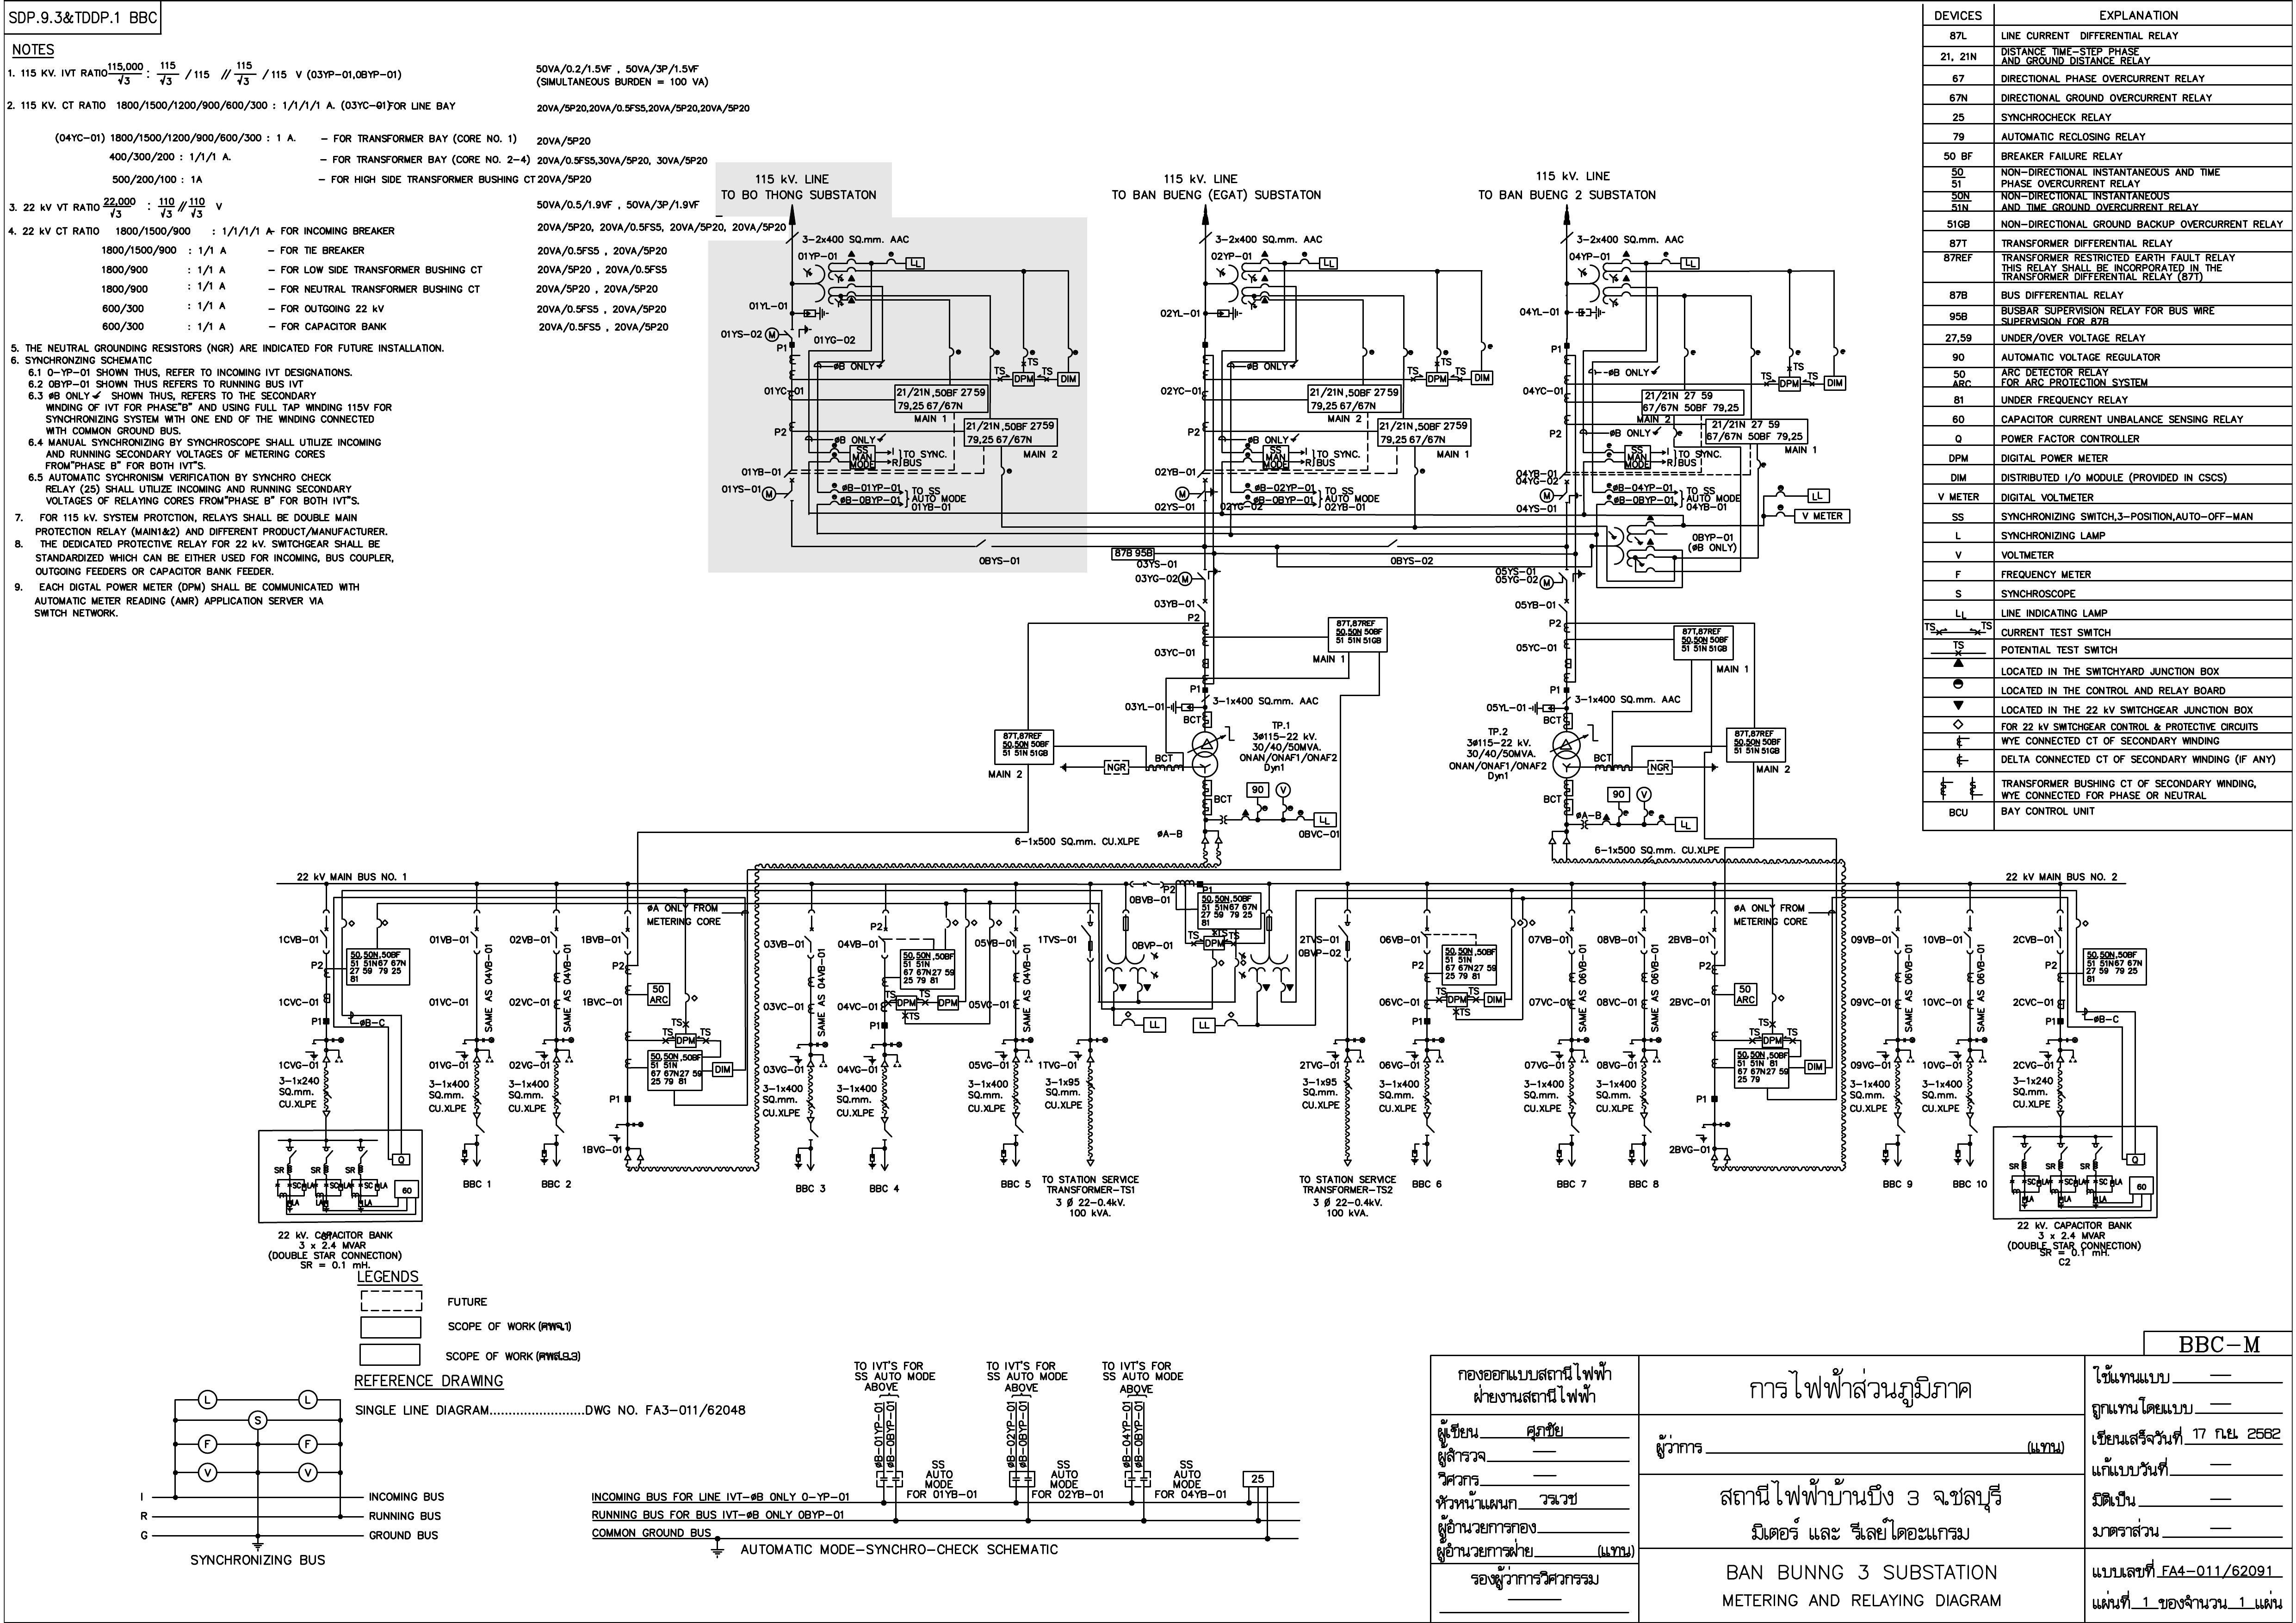11522_tx_dyn1: (1552, 730, 1581, 779), (1191, 731, 1219, 778)
115_1way_ds_w_motor: (761, 486, 794, 502)
115_3ways_ds_w_motor: (1539, 569, 1586, 591), (764, 324, 812, 342), (1177, 567, 1221, 586), (1539, 488, 1583, 504), (1175, 486, 1219, 502)
115_breaker: (783, 469, 795, 483), (1197, 469, 1208, 483), (1559, 471, 1570, 485), (1197, 599, 1208, 612), (1562, 599, 1573, 613)
115_ds: (975, 539, 993, 548), (1387, 539, 1399, 548)
115_la: (1167, 700, 1194, 715), (1528, 701, 1555, 716), (803, 306, 829, 321), (1217, 306, 1243, 321)
115_vt_1p: (1608, 515, 1656, 568)
115_vt_3p: (1215, 250, 1270, 311), (1577, 250, 1632, 308), (803, 250, 857, 308)
22_breaker: (804, 909, 816, 959), (878, 909, 890, 959), (1707, 909, 1718, 956), (1009, 909, 1020, 955), (1891, 908, 1902, 955), (550, 909, 561, 955), (1963, 908, 1974, 955), (1637, 909, 1648, 955), (1420, 909, 1431, 955), (470, 909, 481, 955), (320, 908, 330, 955), (1565, 909, 1576, 955), (2054, 909, 2064, 955), (621, 910, 631, 956), (1130, 881, 1164, 889)
22_cap_bank: (1992, 1125, 2158, 1220), (257, 1129, 423, 1224)
22_ds: (1080, 909, 1095, 963), (1338, 909, 1351, 962)
22_ds_la_out: (868, 1129, 893, 1172), (999, 1124, 1024, 1167), (460, 1124, 485, 1167), (540, 1124, 565, 1167), (1953, 1124, 1978, 1167), (1881, 1125, 1906, 1167), (794, 1129, 819, 1172), (1411, 1124, 1436, 1167), (1555, 1124, 1580, 1167), (1628, 1125, 1652, 1167)
22_gs: (1622, 1043, 1636, 1061), (1876, 1043, 1890, 1061), (455, 1043, 469, 1061), (1326, 1043, 1340, 1061), (789, 1047, 803, 1066), (305, 1043, 319, 1061), (863, 1047, 877, 1066), (994, 1043, 1008, 1061), (2039, 1043, 2053, 1061), (1550, 1043, 1564, 1061), (1405, 1043, 1419, 1061), (1949, 1043, 1962, 1061), (1069, 1043, 1083, 1061), (535, 1043, 549, 1061), (608, 1126, 621, 1143), (1695, 1126, 1708, 1143)
22_ll: (1902, 1037, 1916, 1043), (1352, 1037, 1366, 1043), (1432, 1037, 1445, 1043), (331, 1037, 345, 1043), (482, 1037, 495, 1043), (562, 1037, 575, 1043), (816, 1041, 829, 1048), (890, 1041, 903, 1048), (1021, 1037, 1034, 1043), (1095, 1037, 1108, 1043), (1577, 1037, 1590, 1043), (1649, 1037, 1662, 1043), (1975, 1037, 1988, 1043), (2066, 1037, 2079, 1043), (631, 1121, 644, 1128), (1719, 1121, 1731, 1128)
22_vt_3p: (1238, 909, 1294, 993), (1104, 908, 1159, 993)
DIM: (1823, 375, 1847, 391), (1057, 371, 1080, 387), (1470, 370, 1494, 386), (1483, 992, 1506, 1008), (712, 1061, 734, 1078), (1804, 1059, 1826, 1075)
DPM: (1778, 376, 1801, 392), (1425, 371, 1449, 387), (1012, 371, 1035, 387), (895, 995, 918, 1011), (937, 995, 959, 1011), (1446, 992, 1468, 1008), (675, 1033, 697, 1049), (1203, 935, 1225, 951), (1761, 1033, 1784, 1048)
LL: (1807, 488, 1831, 504), (1192, 1017, 1216, 1034), (1143, 1017, 1167, 1033), (1313, 812, 1337, 828), (1674, 816, 1698, 833), (1679, 256, 1701, 270), (904, 256, 925, 270), (1318, 256, 1338, 270)
NGR_future: (1647, 759, 1719, 776), (1059, 759, 1130, 776)
Q: (391, 1153, 411, 1166), (2126, 1154, 2145, 1166)
ss_man_mode: (1624, 444, 1652, 470), (1262, 444, 1290, 470), (849, 444, 876, 470)
terminator_double: (1548, 830, 1571, 845), (1201, 830, 1223, 844), (623, 1148, 644, 1161), (1710, 1148, 1732, 1161)
terminator_single: (1086, 1055, 1095, 1063), (880, 1117, 889, 1124), (2056, 1110, 2065, 1118), (1086, 1159, 1095, 1167), (472, 1112, 482, 1120), (806, 1117, 815, 1124), (1011, 1112, 1021, 1120), (1966, 1112, 1974, 1120), (1343, 1159, 1352, 1167), (322, 1110, 331, 1118), (1423, 1112, 1431, 1120), (1567, 1112, 1576, 1120), (1640, 1112, 1648, 1120), (552, 1112, 561, 1120), (1894, 1112, 1902, 1119)
terminator_w_future: (1343, 1049, 1365, 1063), (322, 1049, 344, 1063), (472, 1049, 494, 1063), (552, 1049, 574, 1063), (806, 1054, 828, 1068), (880, 1054, 902, 1068), (1012, 1049, 1034, 1063), (1423, 1049, 1444, 1063), (1567, 1049, 1589, 1063), (1640, 1049, 1661, 1063), (1894, 1049, 1915, 1063), (1966, 1049, 1987, 1063), (2056, 1049, 2078, 1063)
v_m: (1275, 782, 1291, 798), (1636, 786, 1652, 803)
v_m_digital: (1793, 508, 1851, 525)
